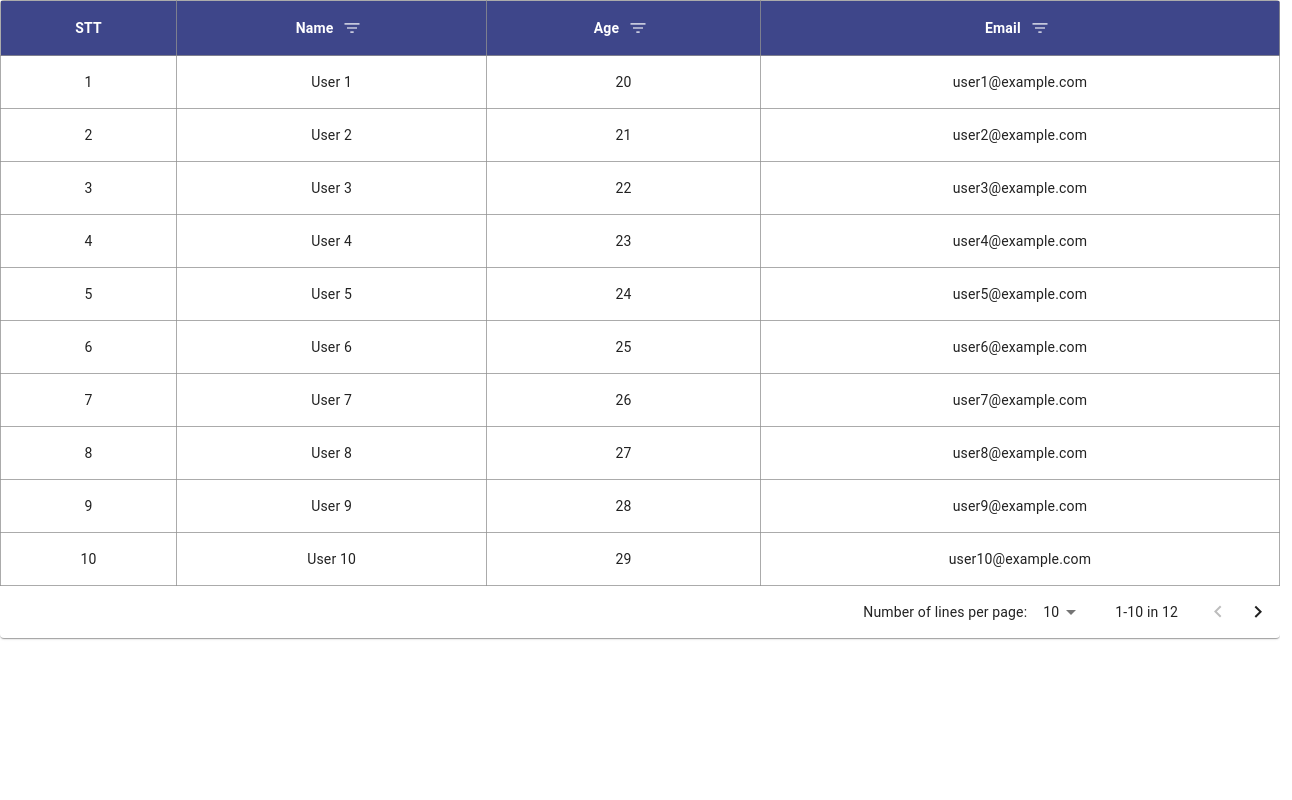
DataTable Component - Unit Tests › BVA - Edge Cases › should handle pagination at last page
The width and height of the screenshot is (1292, 800).
Note: Go to last page (page 2, showing items 6-7)
Click the button named "next page" at (1258, 612), box [1238,592,1278,632]
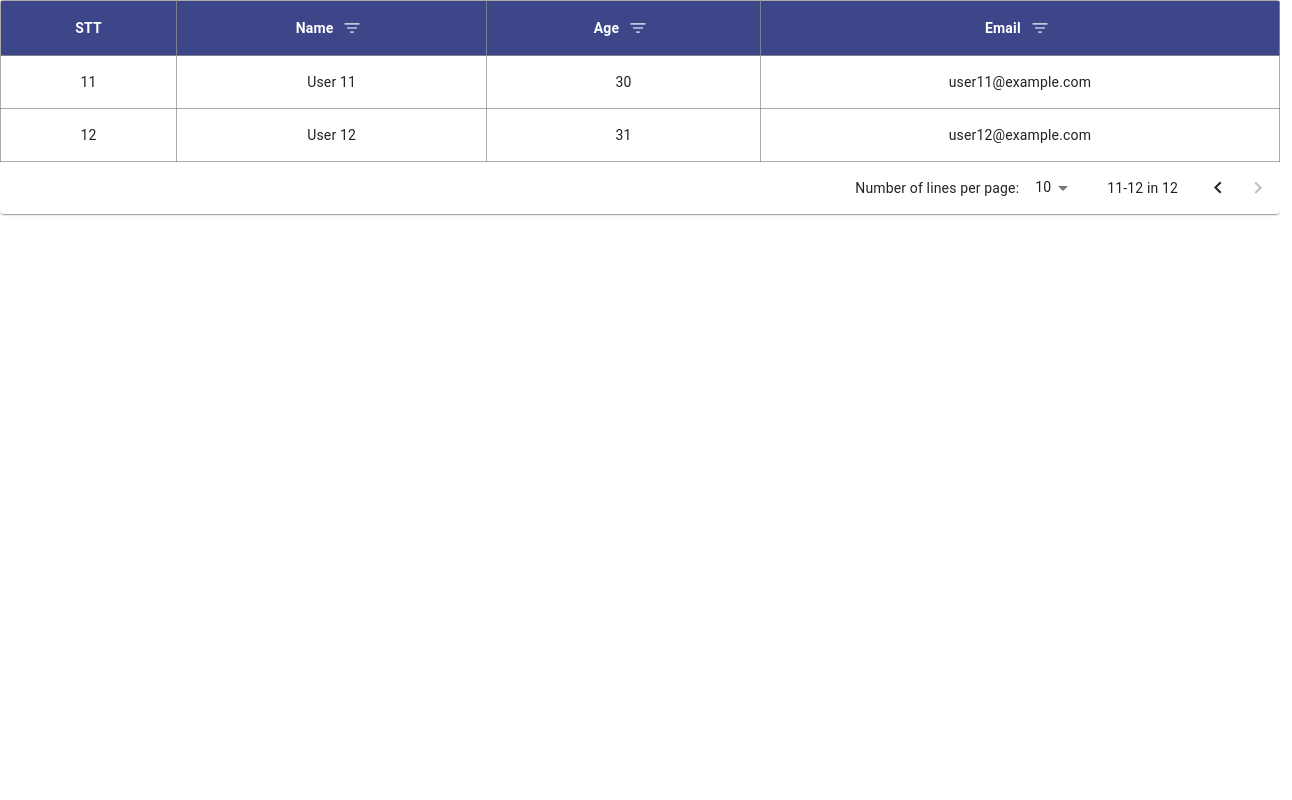
Expected: the text "User 11" is shown, [177,56,487,108]
Expected: the button named "next page" is disabled, [1238,168,1278,208]
